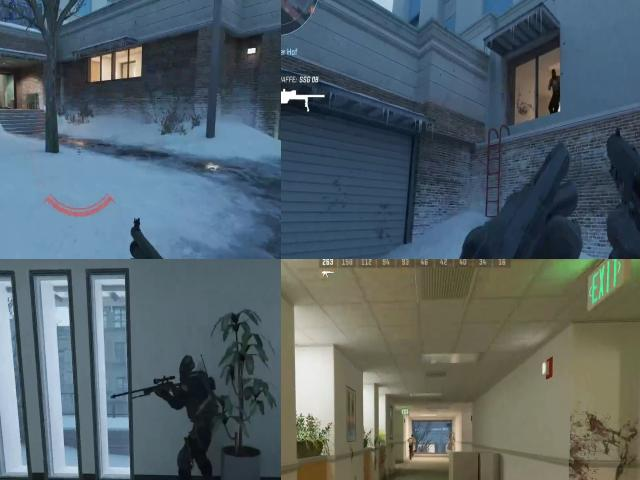CT: (170, 347, 218, 446)
CT-Head: (176, 350, 208, 388)
T: (549, 69, 560, 98), (408, 434, 416, 456)
T-Head: (551, 66, 559, 81), (409, 434, 414, 442)
